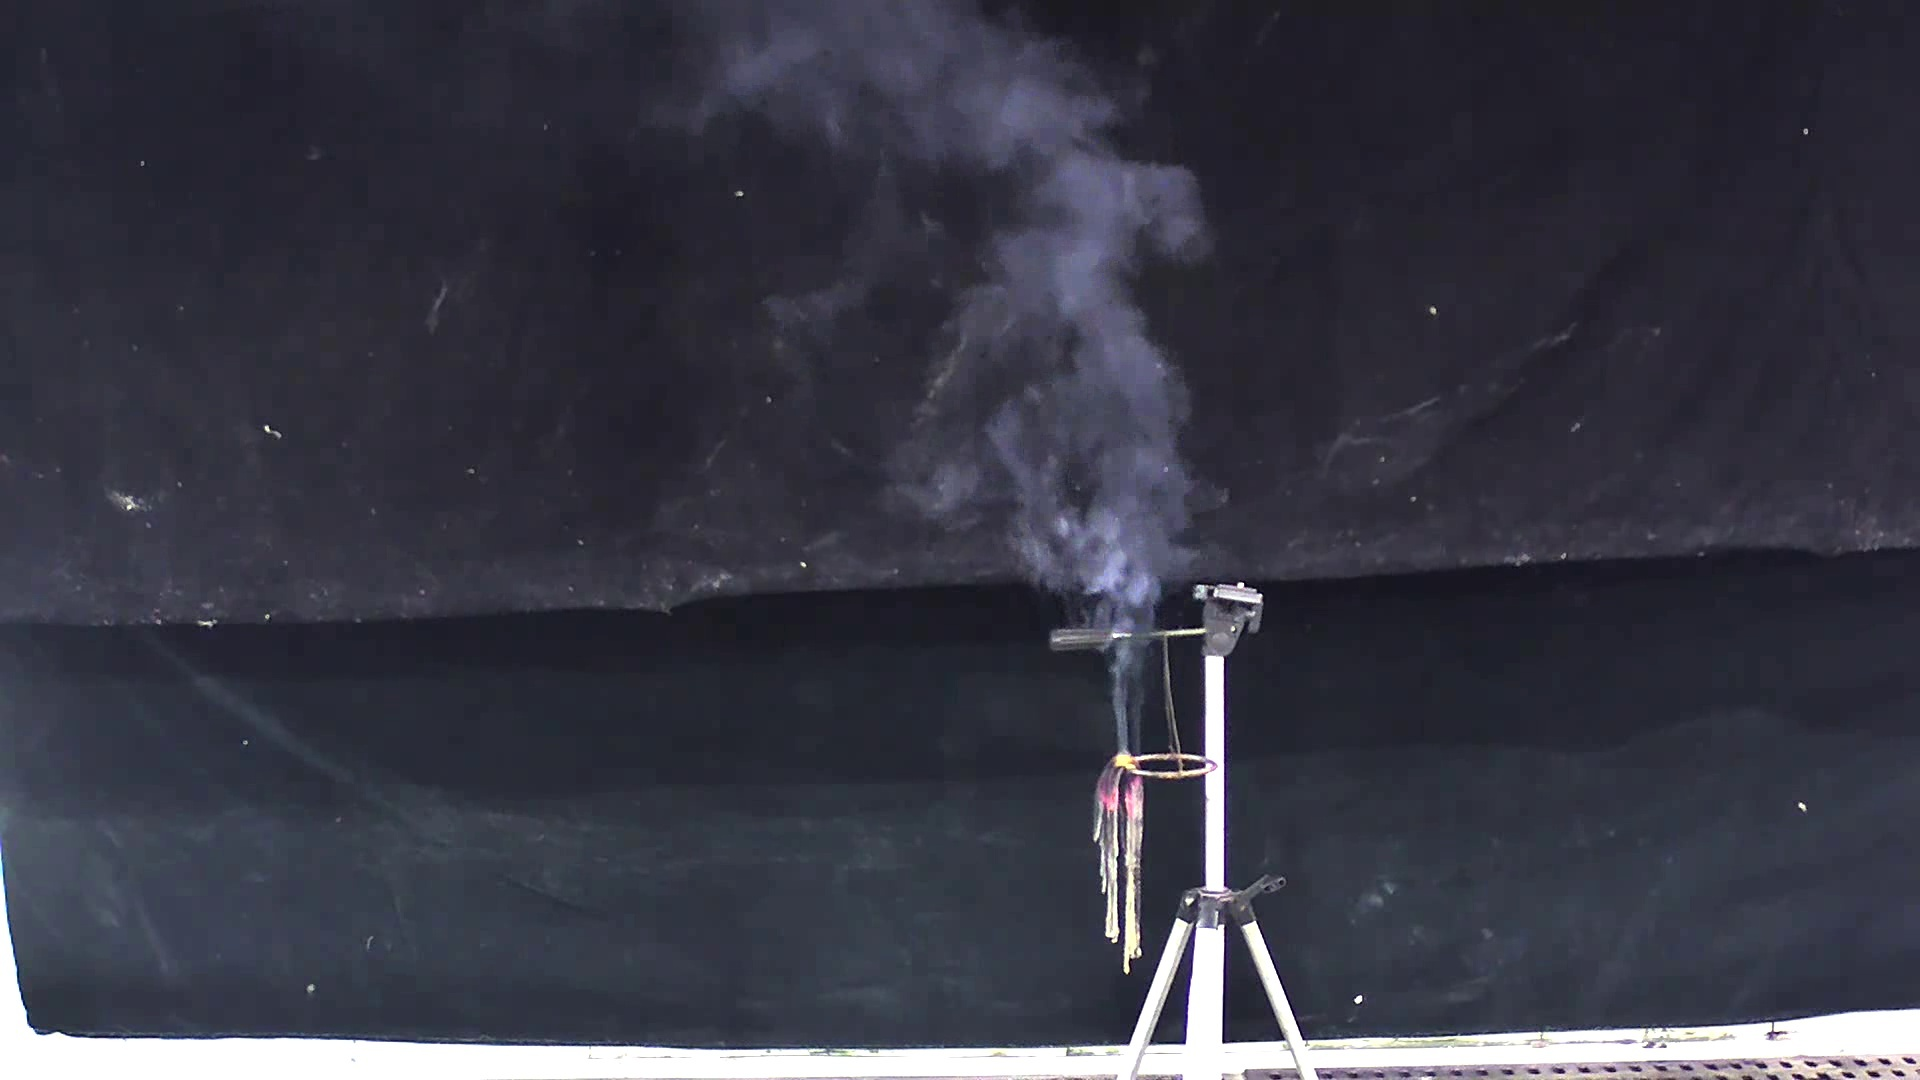smoke: (713, 24, 1207, 713)
